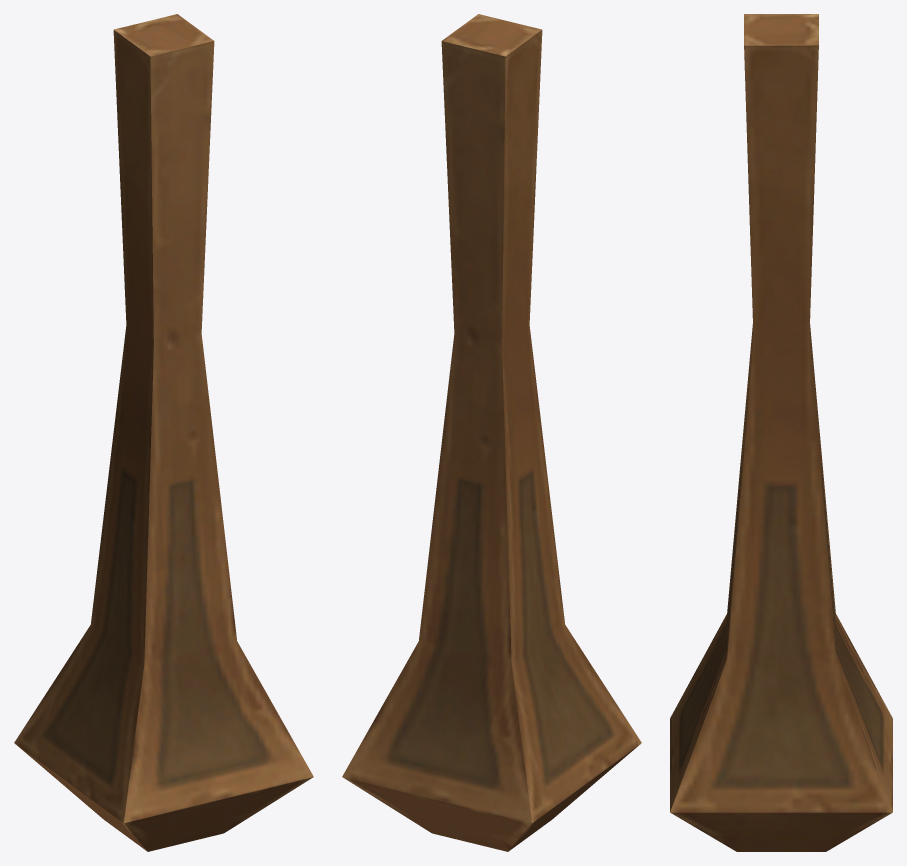
File: shakian_cliff_convex1_wallpillar02_01.FBX
3 renders of one model, left to right at view 1: azimuth 30°, elevation 25°; view 2: azimuth 150°, elevation 25°; view 3: azimuth 270°, elevation 25°, orthographic.
Visible parts, largest first — view 1: shakian_cliff_convex1_wallpillar02_01; view 2: shakian_cliff_convex1_wallpillar02_01; view 3: shakian_cliff_convex1_wallpillar02_01.
Part boxes in pixels (box(x1,y1,x2,y2)): shakian_cliff_convex1_wallpillar02_01: box(14, 14, 313, 851); shakian_cliff_convex1_wallpillar02_01: box(342, 14, 641, 851); shakian_cliff_convex1_wallpillar02_01: box(670, 14, 892, 851).
Bounding box in the file's own units: 1.58 × 6.3 × 1.58.
